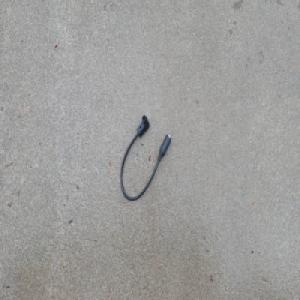Wire: (120, 112, 172, 200)
